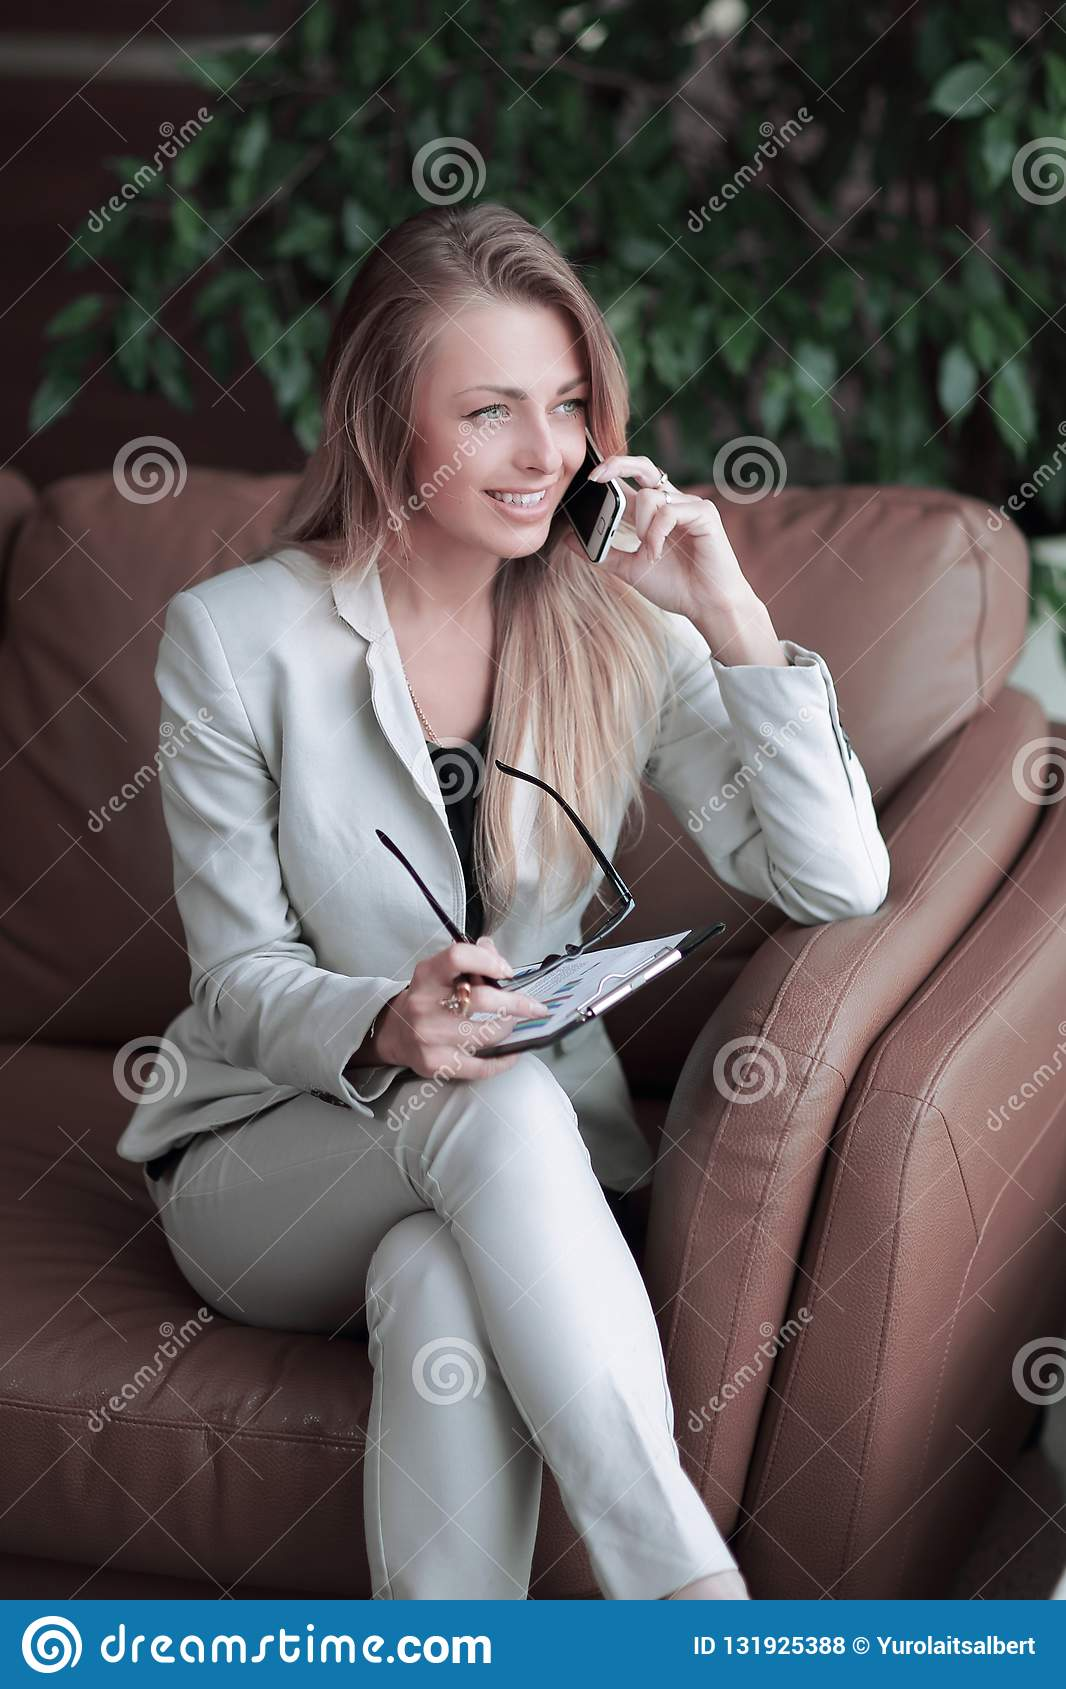phone: (560, 423, 632, 563)
talk: (447, 360, 729, 620)
